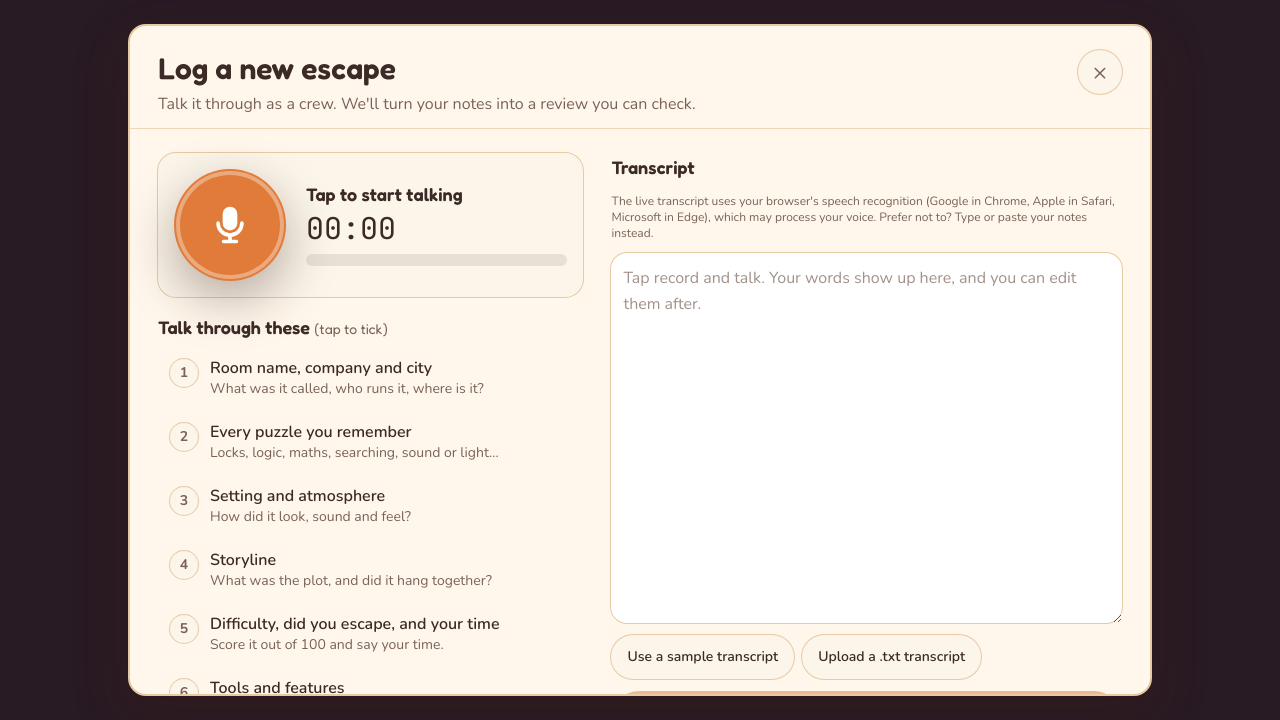
Test: RecordOverlay › switches to the fallback when the microphone is denied
This screenshot has width=1280, height=720.
Click the button with test id "record-toggle". click: [230, 224]
box: [174,168,286,280]
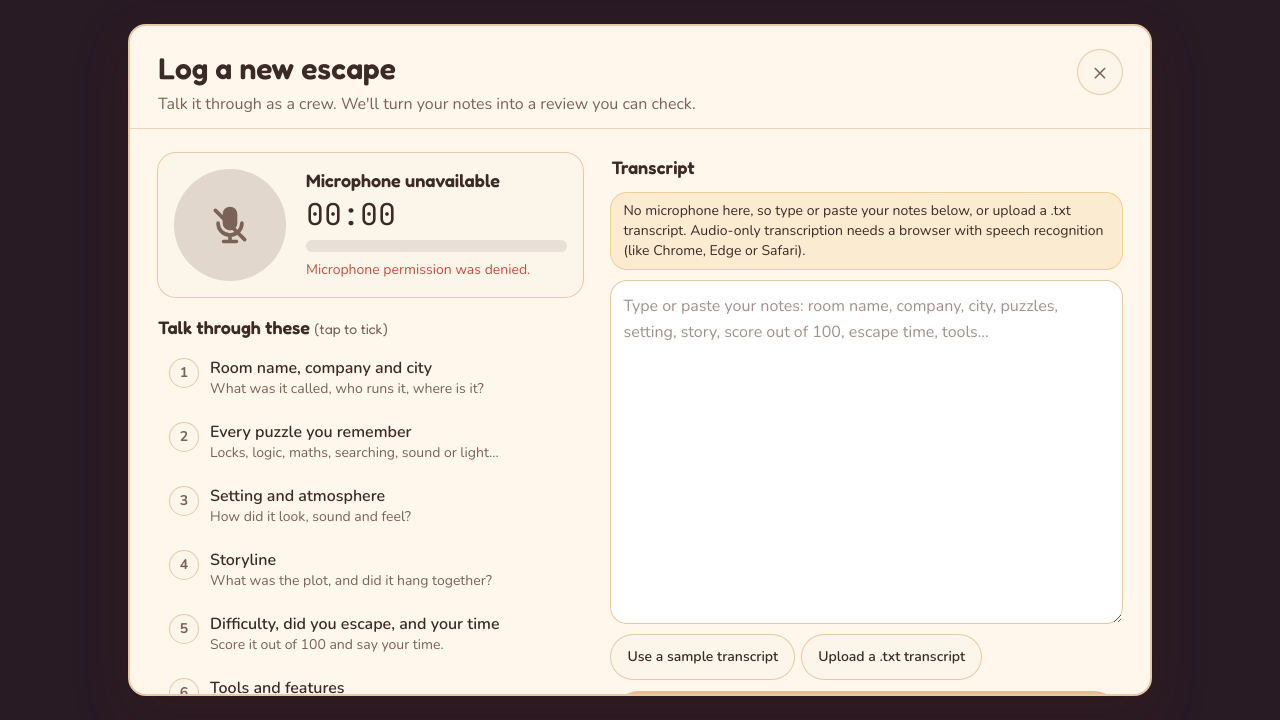
Check: the text box with test id "transcript-input" is shown, box [612,280,1122,622]
Check: the text "Microphone permission was denied." is shown, box [306,260,568,280]
Check: the text with test id "record-fallback" is shown, box [612,192,1122,268]
